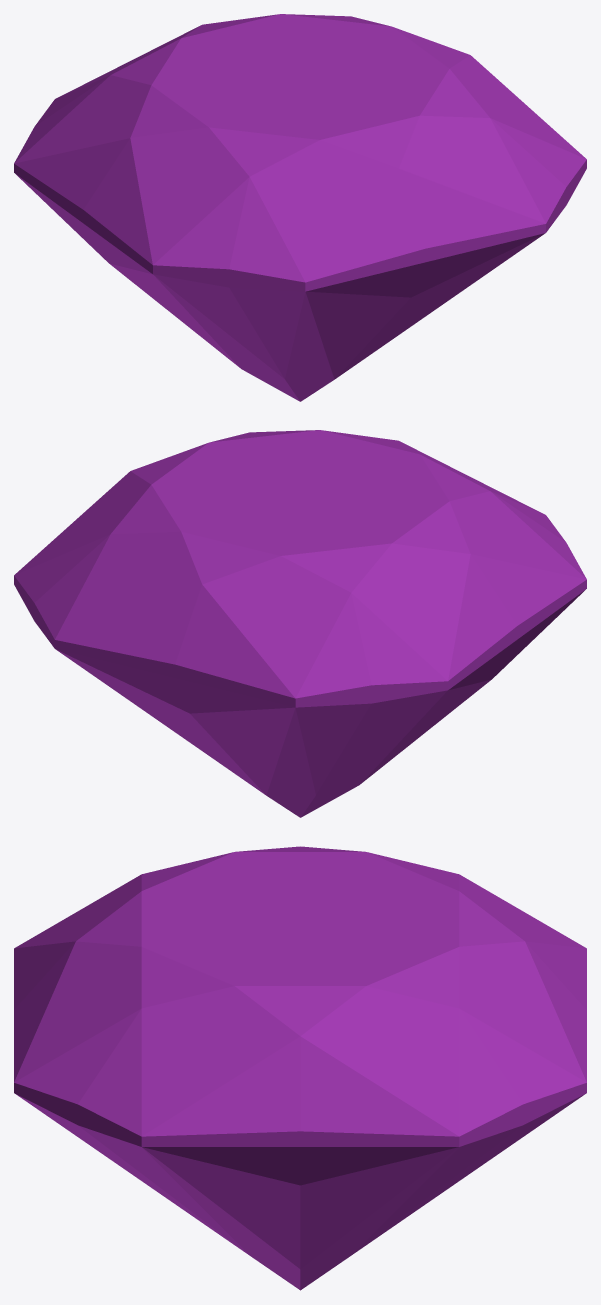
Rendered from amethyst.fbx.
The picture shows the model from 3 angles, top to bottom: view 1: azimuth 30°, elevation 25°; view 2: azimuth 150°, elevation 25°; view 3: azimuth 270°, elevation 25°; orthographic projection. The views are drawn at different scales.
Parts seen in each view (by area): view 1: Flanders; view 2: Flanders; view 3: Flanders.
Boxes of the visible parts, box(x1,y1,x2,y2) form: Flanders: box(14, 14, 586, 401); Flanders: box(14, 430, 586, 817); Flanders: box(14, 846, 586, 1290).
Size of the model in its own units: 110 by 78.69 by 110.
